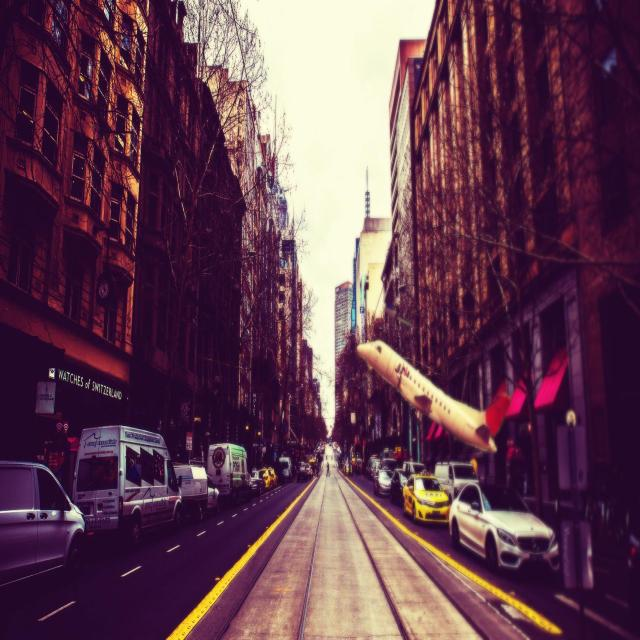airplane: (356, 338, 511, 454)
